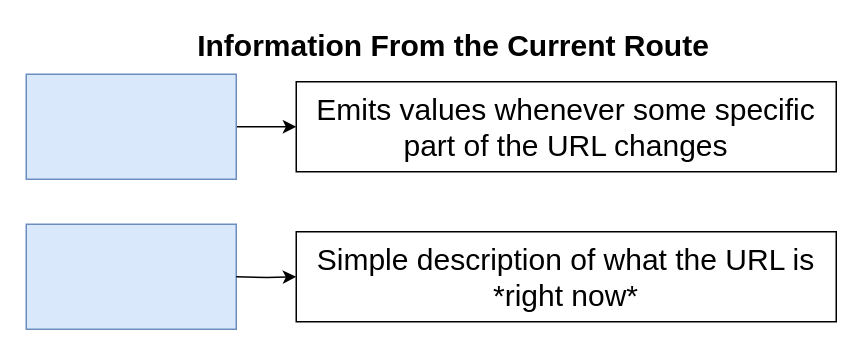
This 863x356 diagram has some shape labels left out. Each missing label, with the centre of its shape:
Observable: point (130, 126)
Snapshot: point (130, 276)
